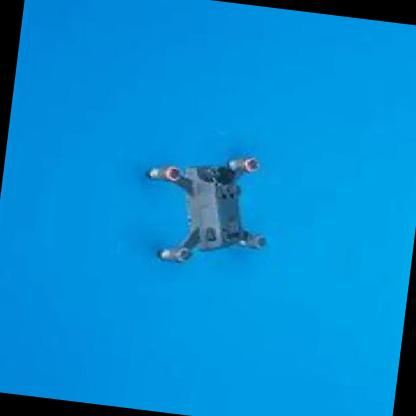drone: (128, 126, 279, 289)
